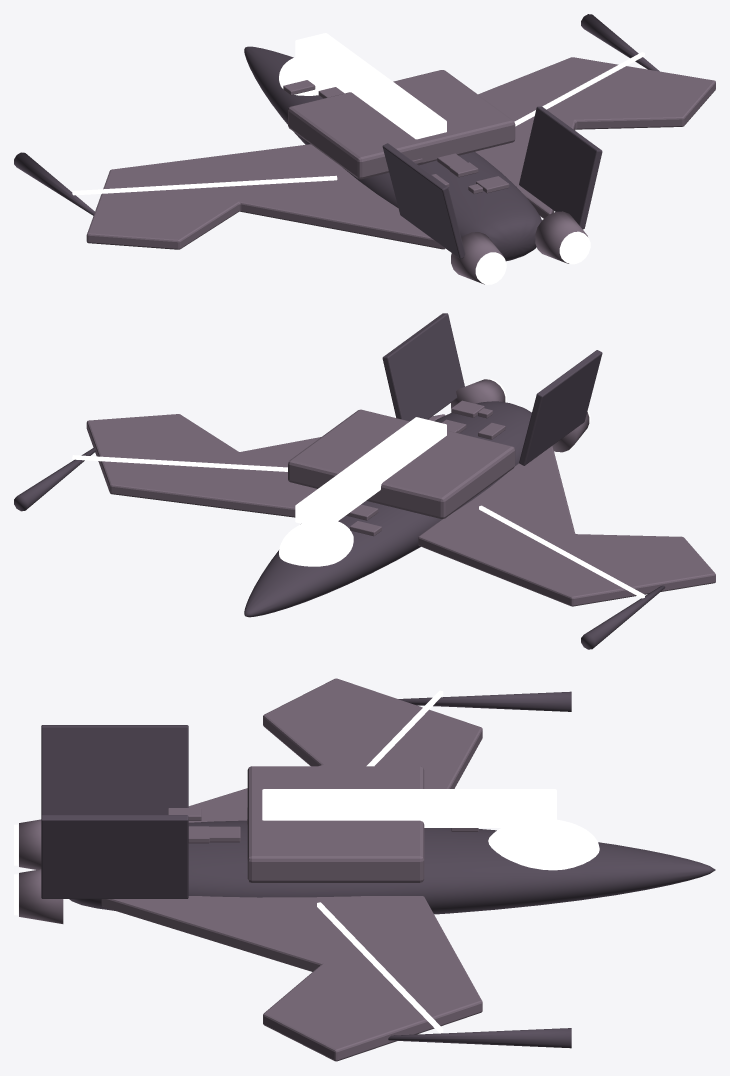
The model's file is elite.fbx.
The picture shows the model from 3 angles, top to bottom: view 1: azimuth 30°, elevation 25°; view 2: azimuth 150°, elevation 25°; view 3: azimuth 270°, elevation 25°; orthographic projection. The views are drawn at different scales.
Visible parts, largest first — view 1: sickle, armor, body, fin.001, armor2, fin, exhaust.001, edge, exhaust, spike, eye, spike.001 (+3 smaller); view 2: sickle, armor, body, armor2, fin.001, fin, eye, edge.001, spike, spike.001, edge, exhaust.001; view 3: sickle, body, armor, fin, fin.001, armor2, eye, spike.001, spike, exhaust.001, edge.001, exhaust (+1 smaller).
Part boxes in pixels (box(x1,y1,x2,y2)): sickle: box(86, 57, 715, 249); armor: box(288, 70, 515, 179); body: box(244, 46, 541, 261); fin.001: box(519, 106, 602, 229); armor2: box(295, 33, 446, 139); fin: box(382, 143, 465, 259); exhaust.001: box(535, 211, 587, 263); edge: box(72, 175, 337, 195); exhaust: box(451, 232, 503, 284); spike: box(14, 152, 94, 215); eye: box(279, 57, 335, 95); spike.001: box(581, 14, 659, 71); sickle: box(86, 414, 715, 606); armor: box(288, 409, 515, 518); body: box(244, 401, 531, 617); armor2: box(295, 417, 446, 529); fin.001: box(382, 313, 464, 421); fin: box(519, 350, 602, 465); eye: box(279, 521, 353, 566); edge.001: box(72, 455, 287, 471); spike: box(581, 585, 665, 649); spike.001: box(14, 447, 95, 511); edge: box(479, 505, 644, 598); exhaust.001: box(451, 379, 505, 408); sickle: box(101, 678, 482, 1061); body: box(69, 820, 715, 914); armor: box(247, 766, 424, 882); fin: box(41, 725, 188, 815); fin.001: box(41, 815, 188, 898); armor2: box(262, 789, 556, 827); eye: box(488, 819, 599, 870); spike.001: box(388, 1028, 571, 1048); spike: box(398, 691, 571, 711); exhaust.001: box(19, 869, 63, 923); edge.001: box(317, 902, 443, 1033); exhaust: box(19, 819, 41, 869).
Bounding box in the file's own units: 599 × 100 × 476.
